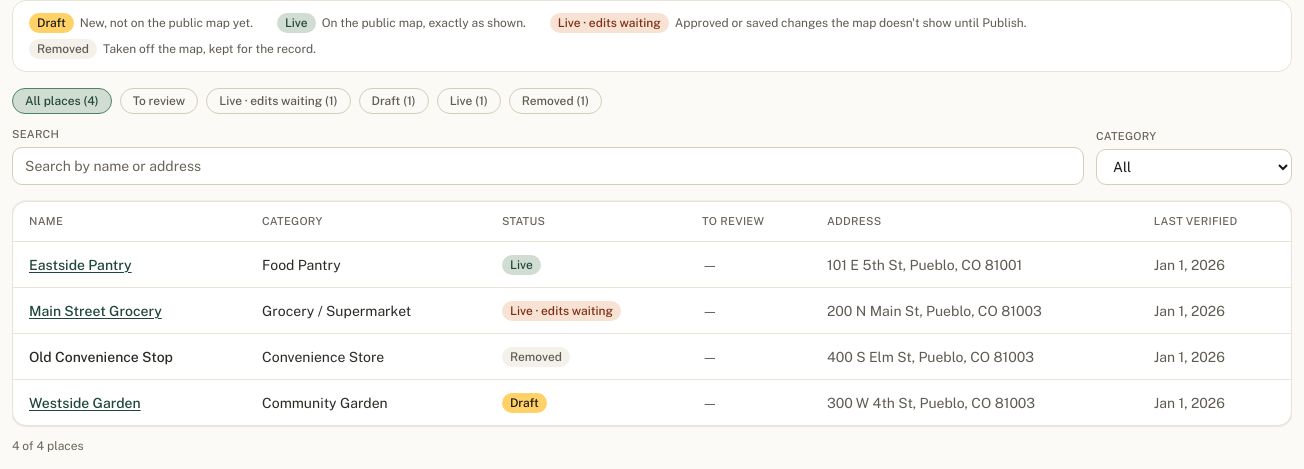
VenueListView — quick-filter chips (#674, formerly a status <select>) › filtering to Draft shows only draft venues
This screenshot has width=1304, height=469.
What coordinates should you click on to do the following:
click the button "Draft (1)"
I would click on:
 (394, 101)
Its box is [359,88,429,114].
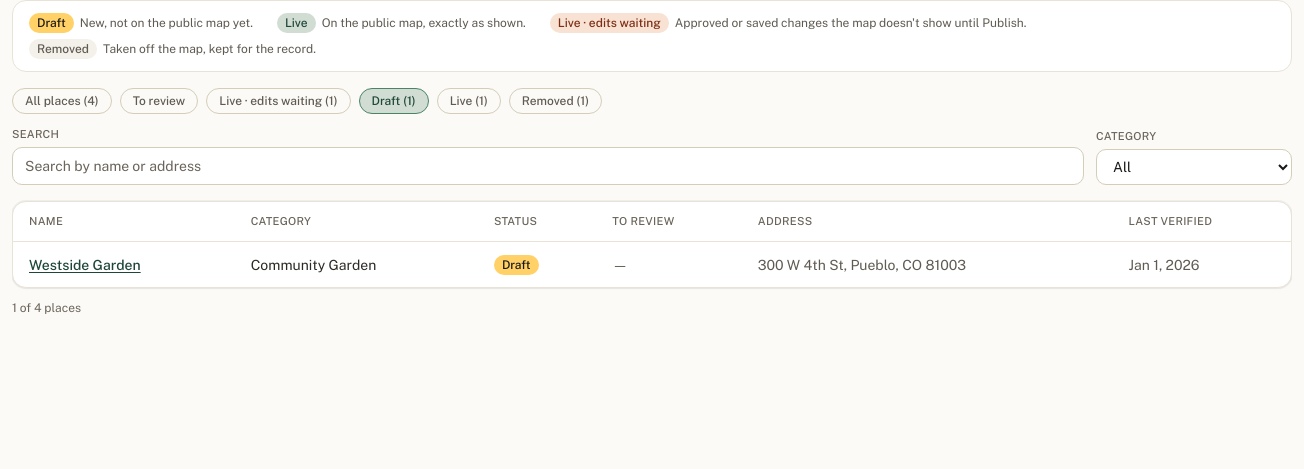
Expected: the link "Eastside Pantry" is gone
Expected: the link "Main Street Grocery" is gone
Expected: the text "Old Convenience Stop" is gone
